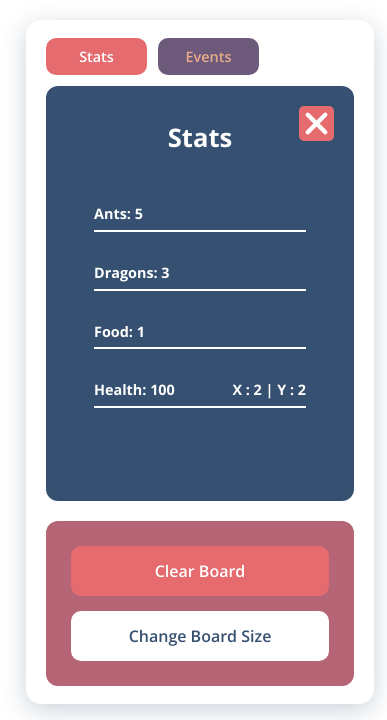
Test case: GameStatsEventsPanel.vue › Component should correctly display all data
Check: the text with test id "ants-count" reads "Ants: 5", box [94,204,143,223]
Check: the text with test id "dragons-count" reads "Dragons: 3", box [94,263,170,282]
Click the button with test id "control-button" showing "Events". click: (208, 56)
box: [158,38,259,75]
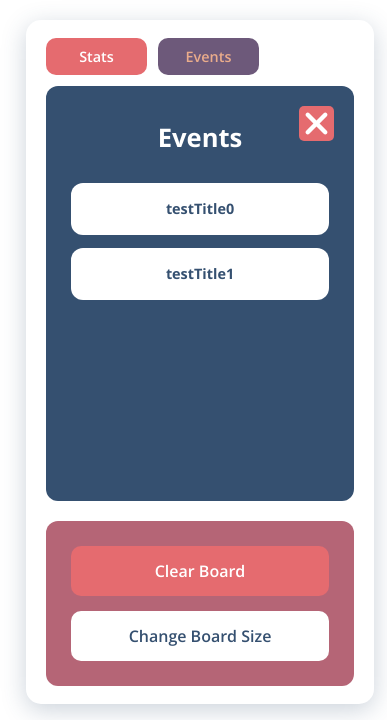
Check: the number of elements with test id "event" is 2, box [71,183,329,235]; [71,248,329,300]
Check: the element with test id "event" reads "testTitle0", box [166,199,234,218]
Check: the element with test id "event" reads "testTitle1", box [166,264,234,283]
